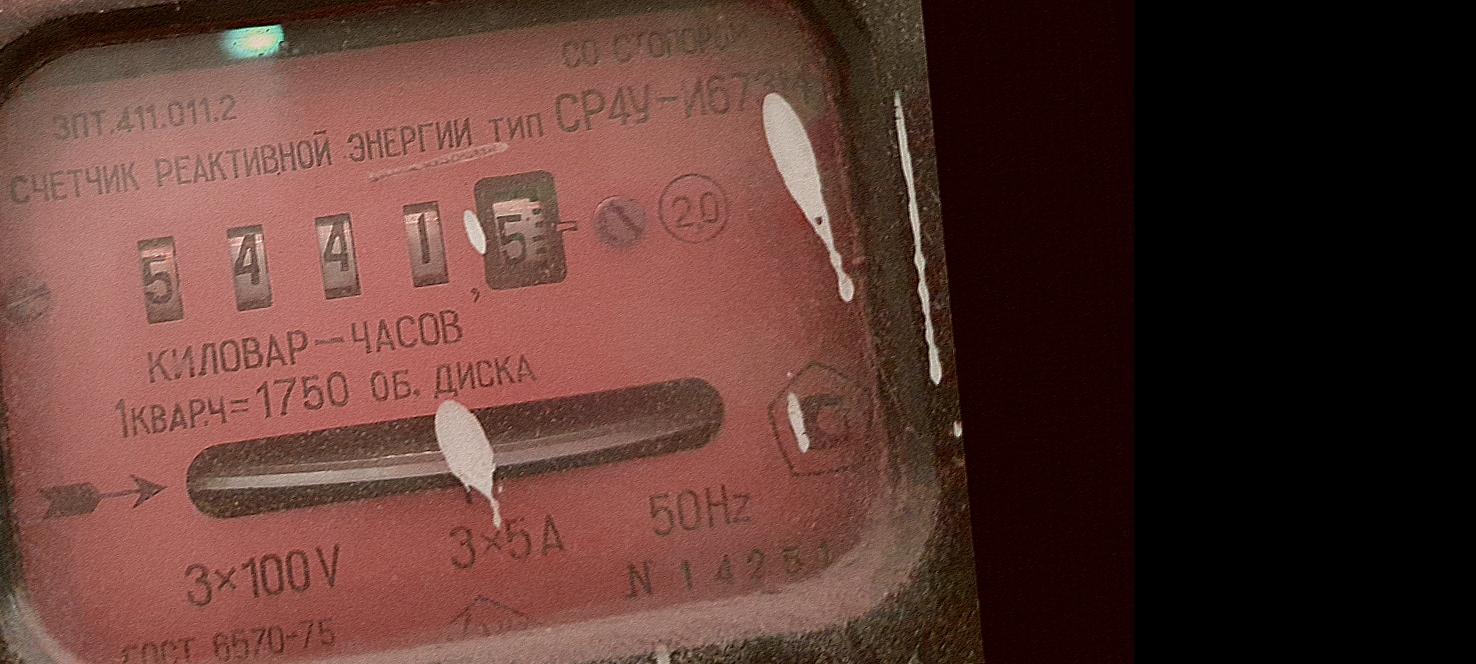1: (408, 208, 437, 269)
4: (313, 212, 356, 281), (226, 227, 267, 291)
5: (135, 249, 179, 309), (492, 206, 532, 271)
screen: (107, 144, 594, 354)
